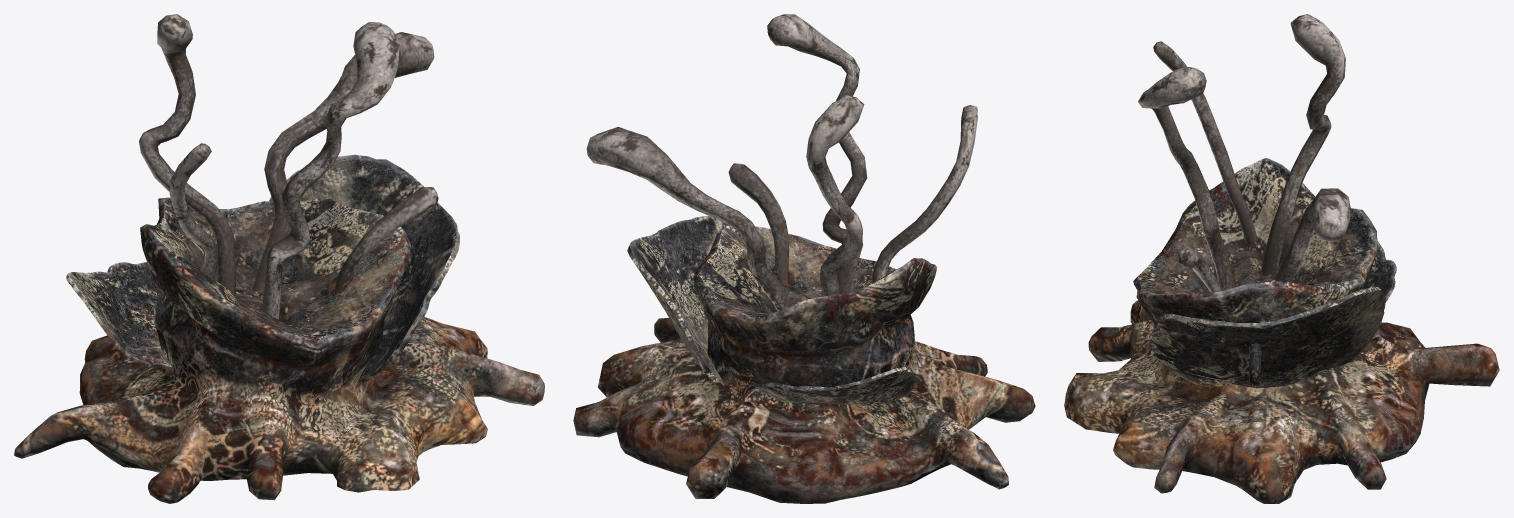
The model's file is fetish_anvil.DAE.
3 renders of one model, left to right at view 1: azimuth 30°, elevation 25°; view 2: azimuth 150°, elevation 25°; view 3: azimuth 270°, elevation 25°, orthographic. The views are drawn at different scales.
Parts seen in each view (by area): view 1: fetish_anvil; view 2: fetish_anvil; view 3: fetish_anvil.
Part boxes in pixels (x1,y1,x2,y2): fetish_anvil: [14, 14, 544, 503]; fetish_anvil: [573, 14, 1035, 503]; fetish_anvil: [1064, 14, 1499, 503].
Size of the model in its own units: 53.81 by 46.39 by 49.3.
